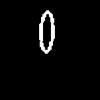chain: (39, 11, 54, 52)
